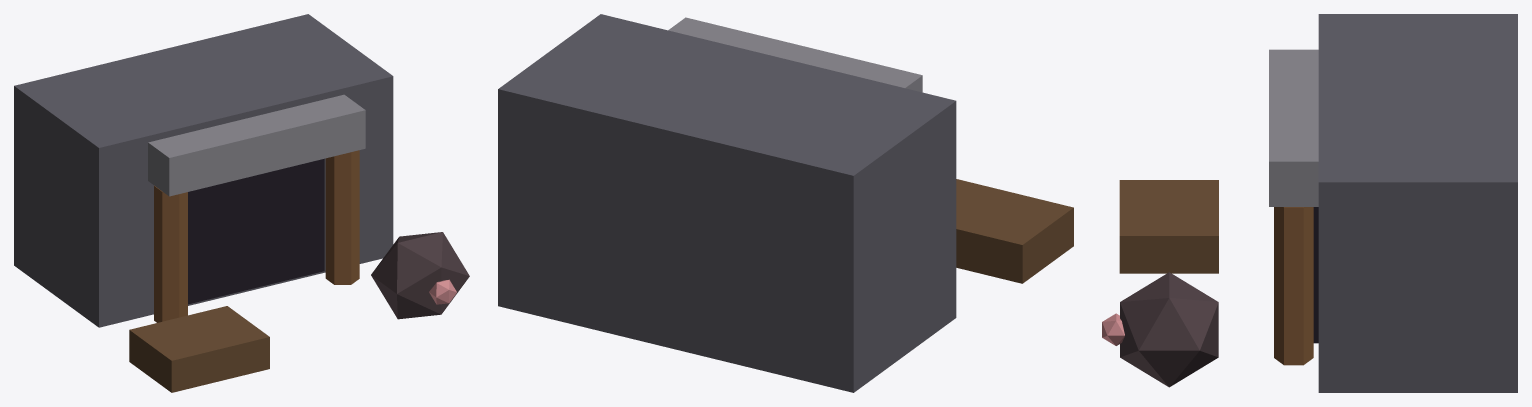
File: mole-tunnel.glb
3 renders of one model, left to right at view 1: azimuth 30°, elevation 25°; view 2: azimuth 150°, elevation 25°; view 3: azimuth 270°, elevation 25°, orthographic. The views are drawn at different scales.
Visible parts, largest first — view 1: mole_tunnel; view 2: mole_tunnel; view 3: mole_tunnel.
Part boxes in pixels (x1,y1,x2,y2): mole_tunnel: [14, 14, 469, 392]; mole_tunnel: [498, 14, 1073, 392]; mole_tunnel: [1102, 14, 1517, 392].
Bounding box in the file's own units: 0.25 × 0.1418 × 0.2505.
